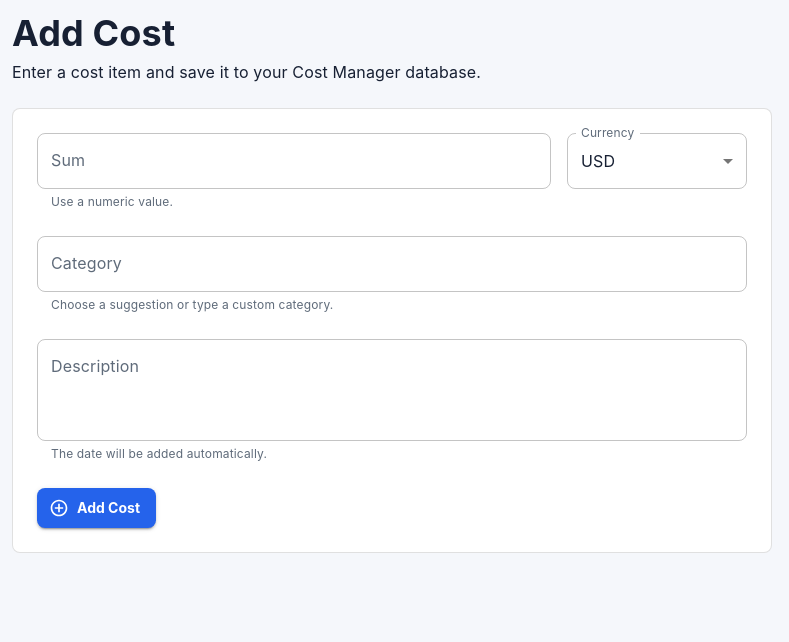
Test: AddCostPage › rejects non-numeric sums before persistence
In the field labelled "Sum": (294, 162) [37,134,551,190], type "not a number"
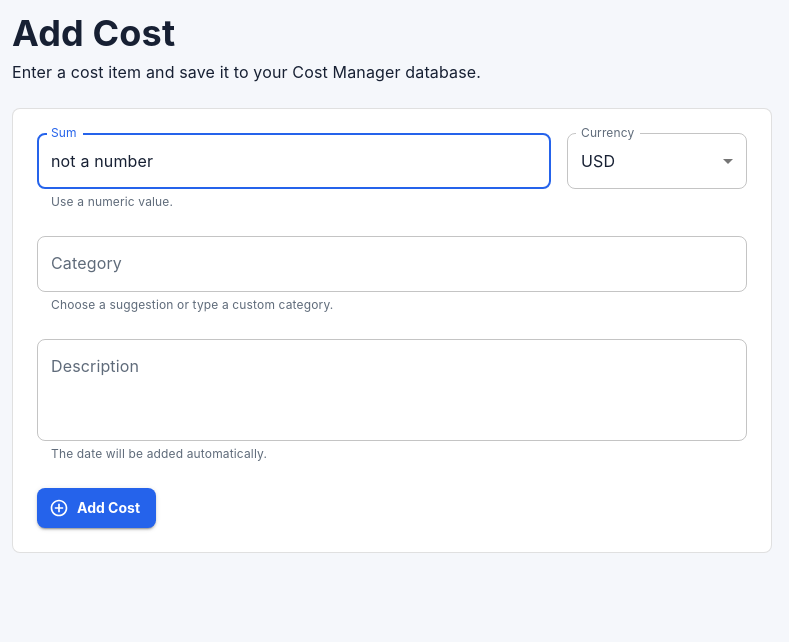
In the dropdown labelled "Category": (392, 264) [46,245,738,283], type "Food"
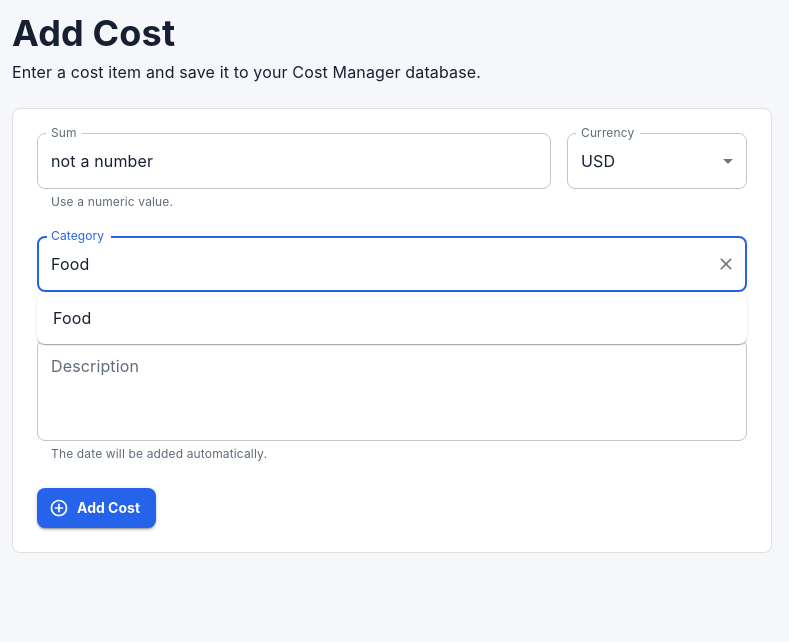
In the text box labelled "Description": (392, 390) [51,356,733,425], type "Lunch"
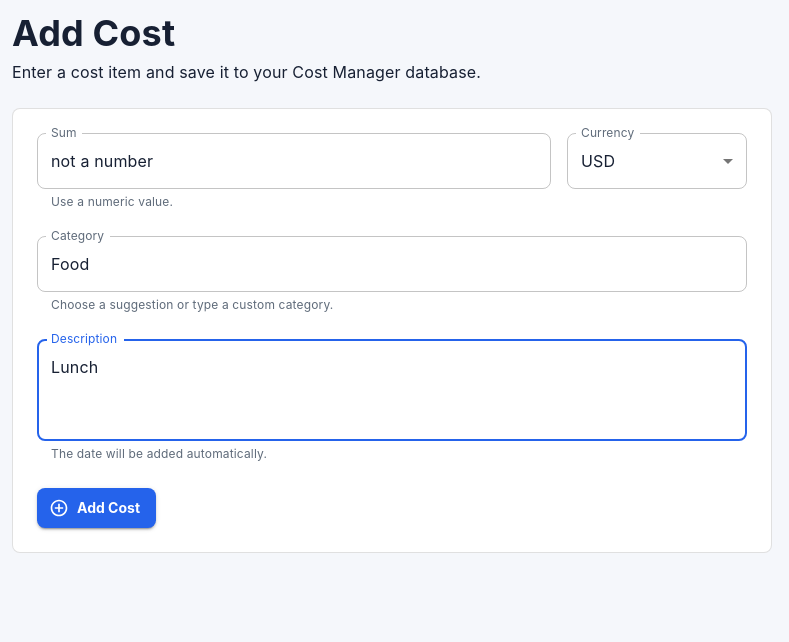
Click the button "Add Cost": (96, 508) [37,488,156,528]
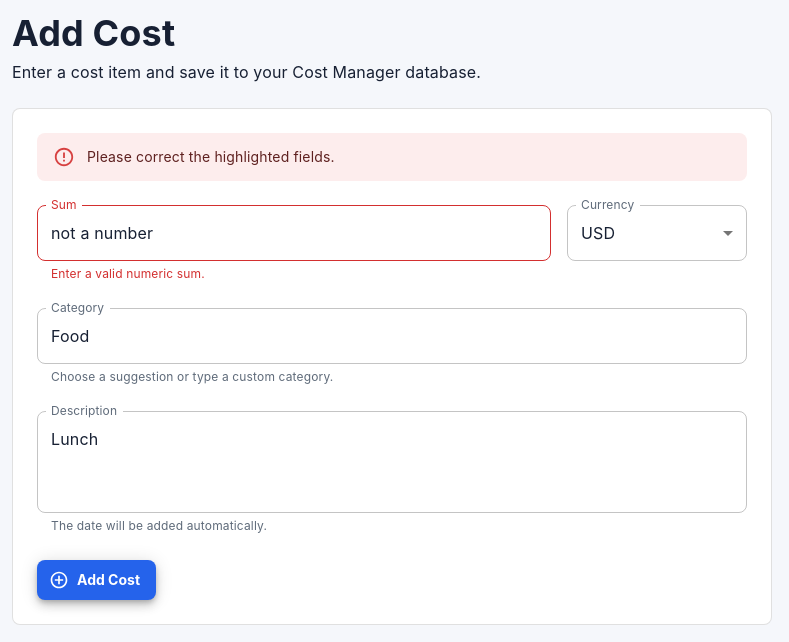
Now the text "Enter a valid numeric sum." is shown, box [51,266,205,282]
